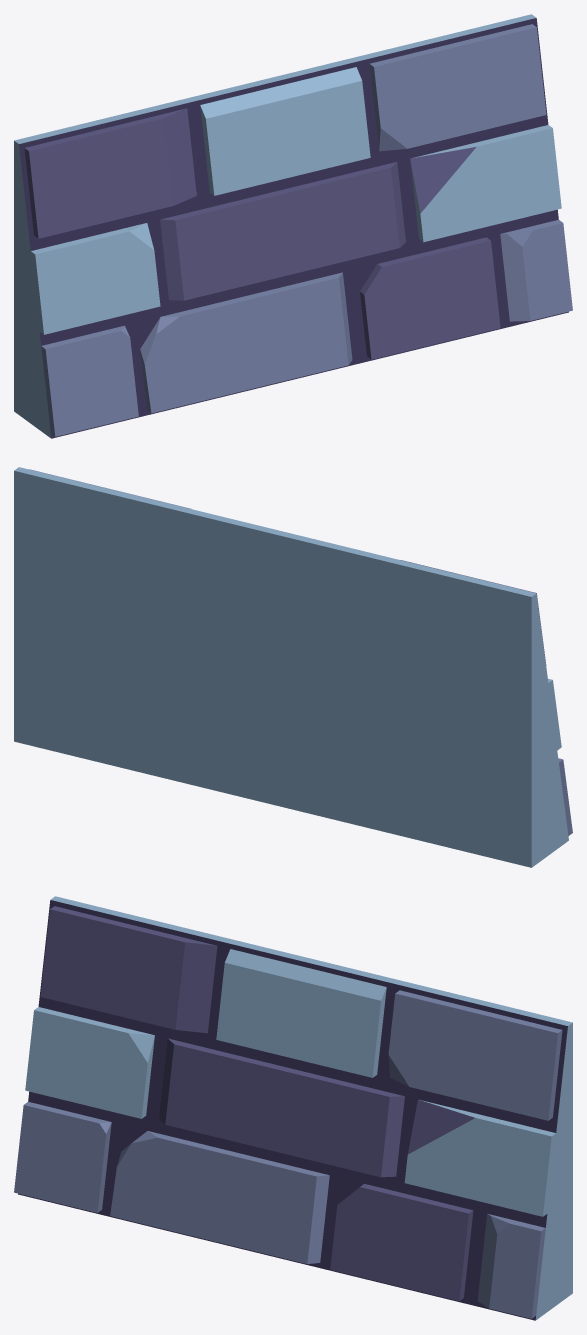
File: Modular Base 03.fbx
3 views of the same model, one above another, from view 1: azimuth 30°, elevation 25°; view 2: azimuth 150°, elevation 25°; view 3: azimuth 330°, elevation 25° (orthographic).
Visible parts, largest first — view 1: Modular Base 03; view 2: Modular Base 03; view 3: Modular Base 03.
Boxes of the visible parts, x1,y1,x2,y2 form: Modular Base 03: (14,14,572,438); Modular Base 03: (14,467,572,867); Modular Base 03: (14,896,572,1320).
Size of the model in its own units: 400 by 200 by 55.26.
